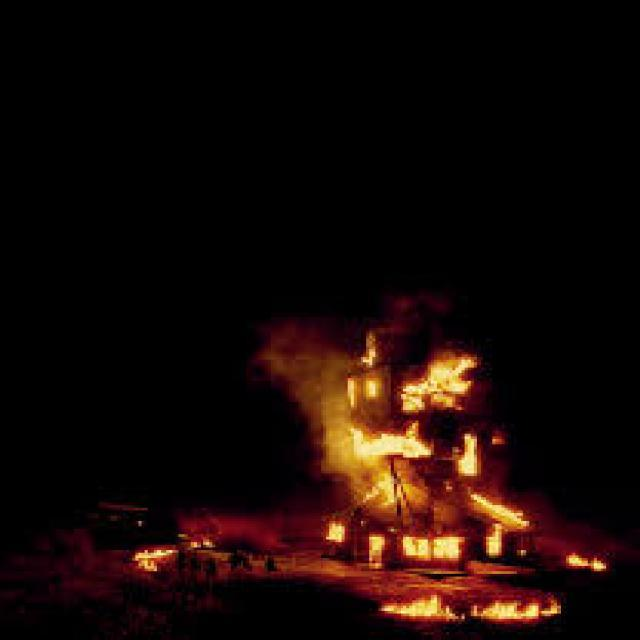Fire: (348, 332, 558, 618)
